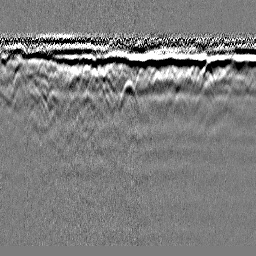cavity: (117, 77, 141, 114)
